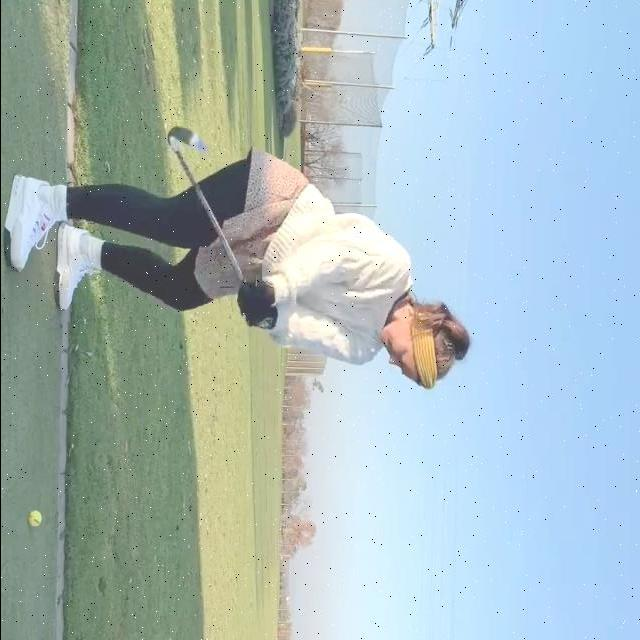golf ball: (27, 510, 41, 527)
golf club-handle: (161, 121, 255, 308)
golf club-head: (168, 125, 207, 153)
